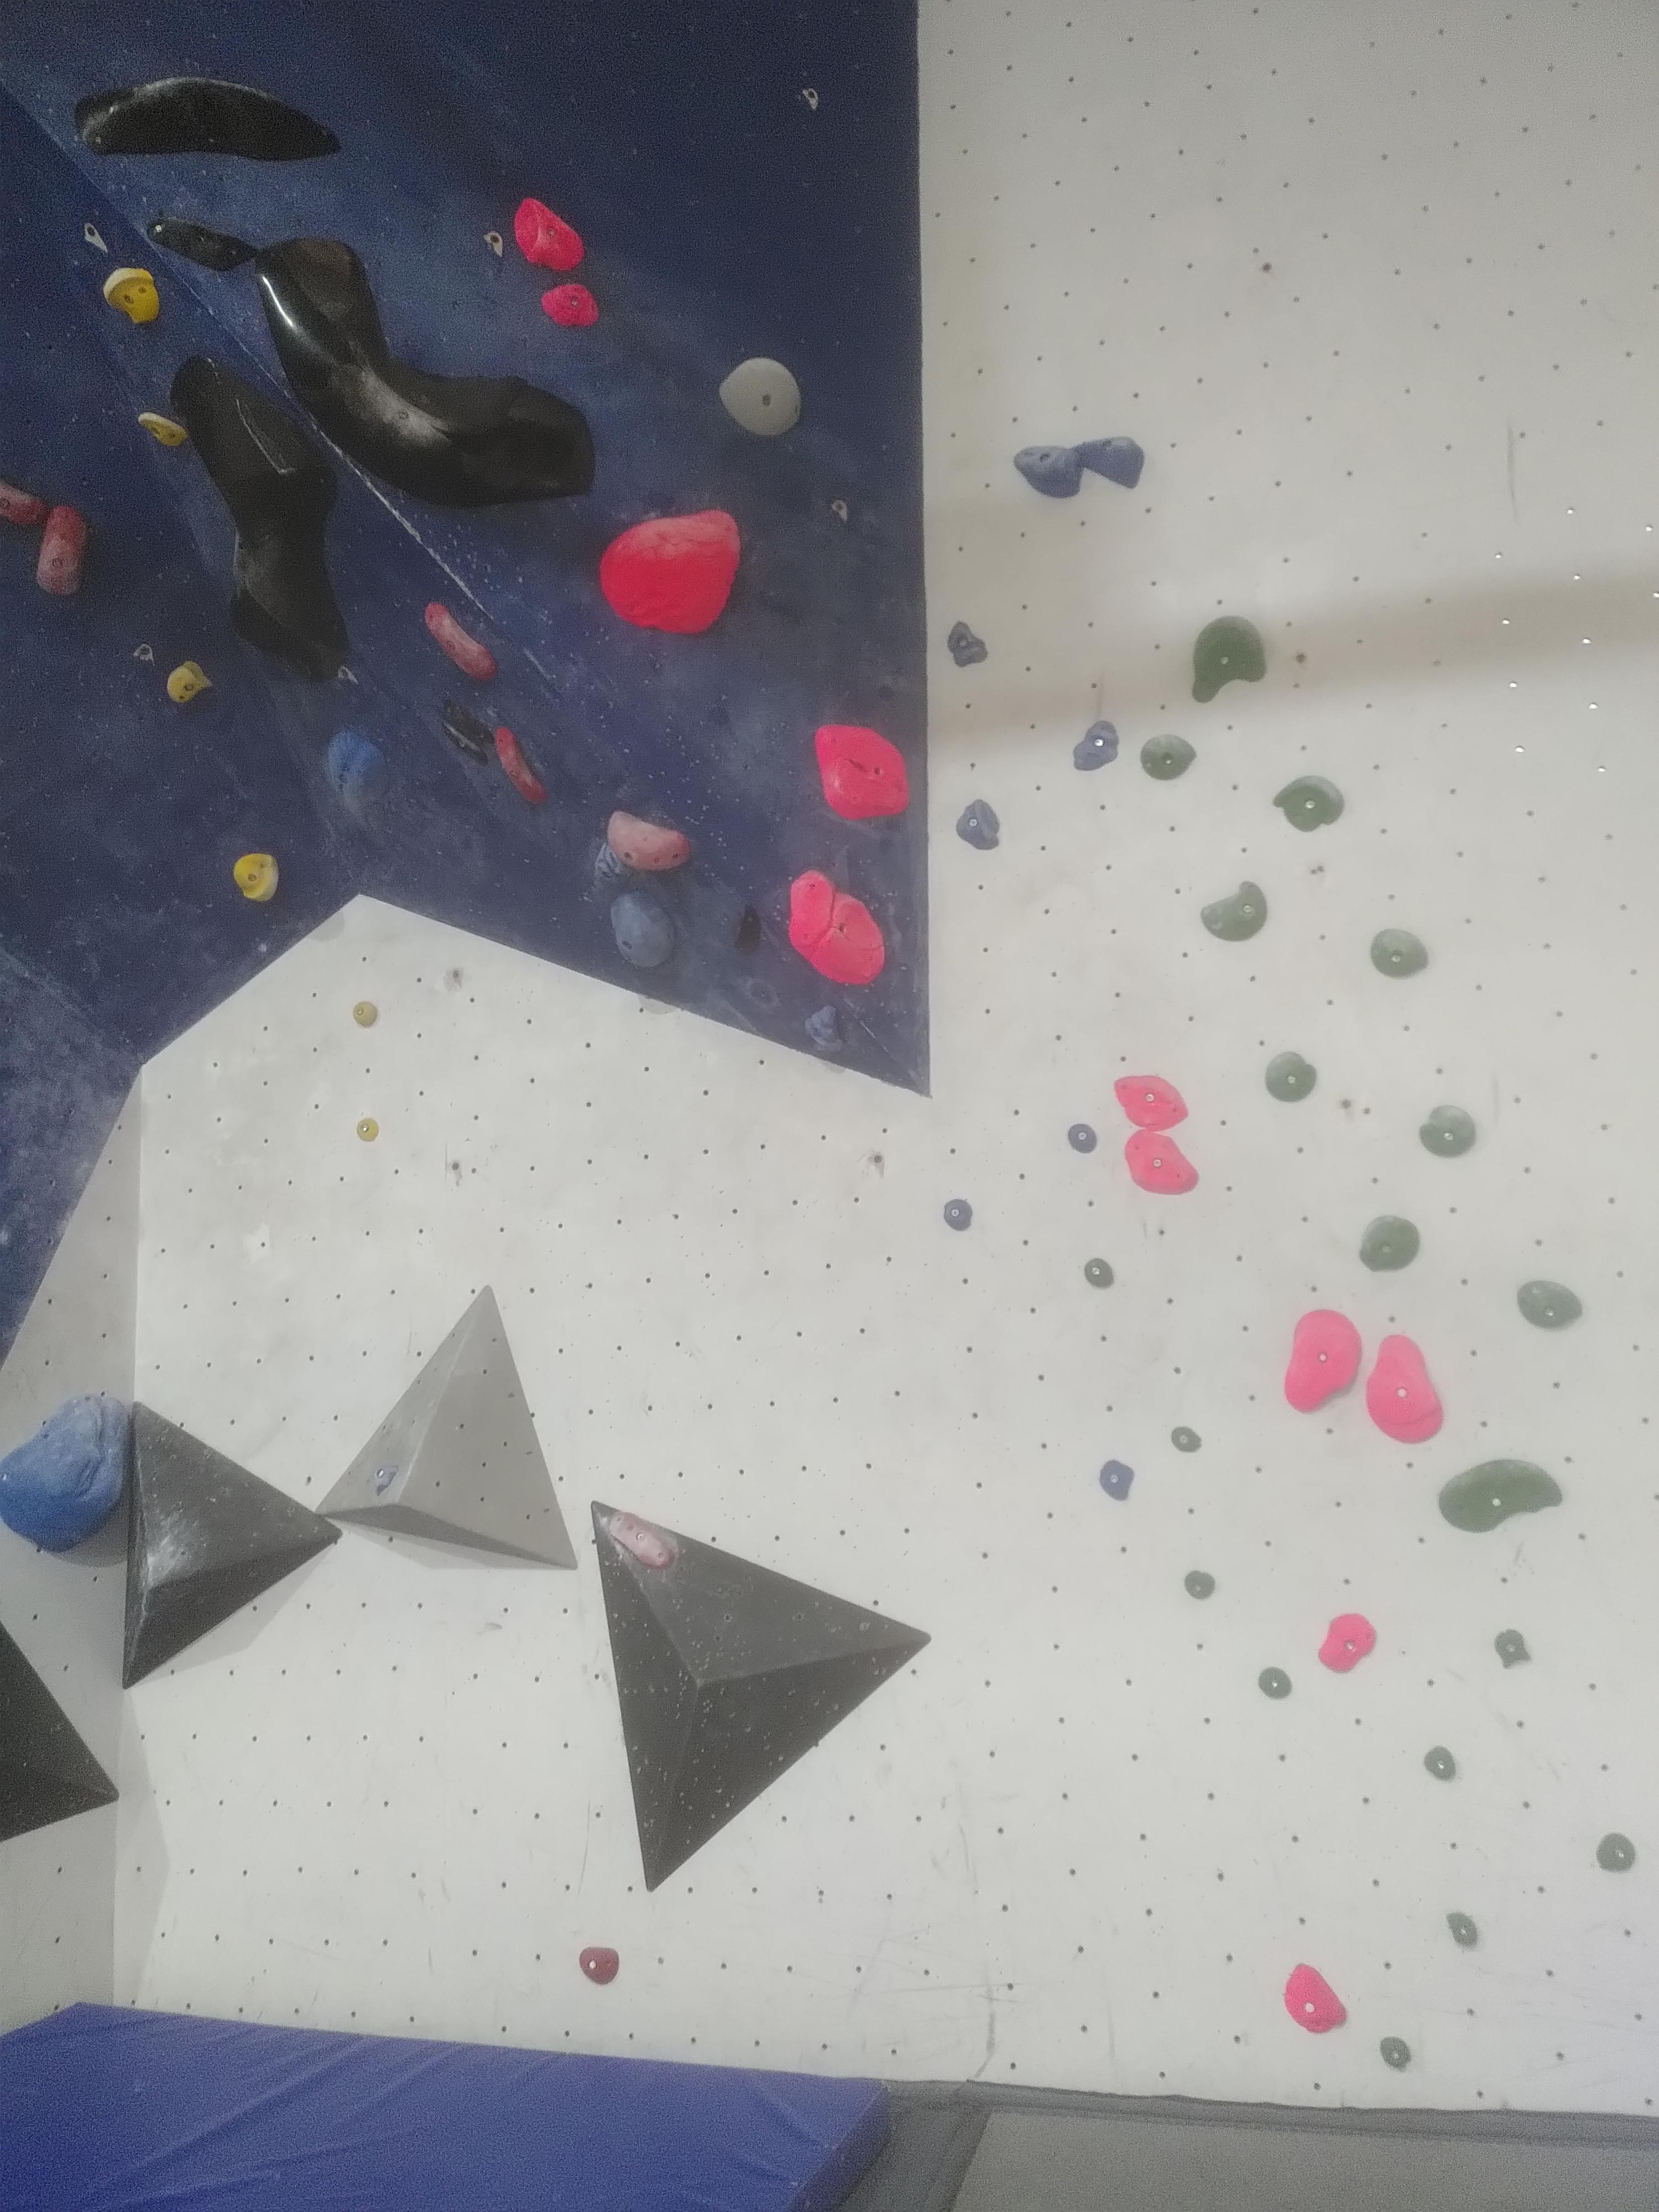hold: (253, 239, 596, 509), (169, 357, 350, 683), (73, 77, 342, 162), (0, 1393, 132, 1550), (598, 509, 741, 636), (789, 869, 887, 986), (812, 723, 911, 820), (1438, 1460, 1563, 1534), (1366, 1334, 1443, 1444), (1284, 1308, 1361, 1411), (718, 357, 802, 435), (1192, 615, 1267, 702), (146, 214, 260, 272), (425, 603, 497, 683), (514, 197, 584, 272), (1124, 1129, 1199, 1197), (610, 890, 676, 967), (608, 812, 692, 871), (326, 728, 389, 805), (35, 505, 87, 596), (1112, 1075, 1188, 1132), (1284, 1963, 1347, 2033), (495, 726, 549, 805), (1272, 775, 1345, 833), (1201, 880, 1267, 942), (1068, 437, 1145, 488), (610, 1512, 676, 1569), (1012, 446, 1084, 498), (1317, 1613, 1377, 1676), (1359, 1216, 1420, 1271), (1516, 1280, 1582, 1329), (103, 268, 160, 322), (1370, 928, 1431, 977), (1419, 1104, 1474, 1157), (1265, 1052, 1317, 1103), (1140, 735, 1197, 780), (542, 284, 599, 327), (0, 475, 49, 526), (444, 698, 495, 745), (1073, 719, 1119, 772), (232, 853, 279, 902), (955, 799, 1000, 850), (441, 721, 488, 766), (167, 660, 214, 704), (946, 620, 988, 669), (594, 843, 638, 887), (138, 411, 186, 448), (805, 1007, 843, 1052), (1596, 1832, 1636, 1871), (1493, 1629, 1532, 1669), (1100, 1460, 1134, 1501), (734, 904, 762, 956), (580, 1947, 619, 1984), (1258, 1667, 1293, 1702), (1445, 1912, 1478, 1947), (1424, 1745, 1457, 1780), (943, 1198, 974, 1231), (1380, 2036, 1410, 2069), (1084, 1258, 1114, 1289), (1066, 1123, 1098, 1153), (1183, 1571, 1215, 1599), (1171, 1426, 1202, 1453), (375, 1465, 399, 1496), (352, 1001, 376, 1028), (356, 1118, 378, 1143)
volume: (591, 1501, 932, 1892), (314, 1285, 579, 1571), (122, 1402, 343, 1689), (0, 1618, 120, 1841)
